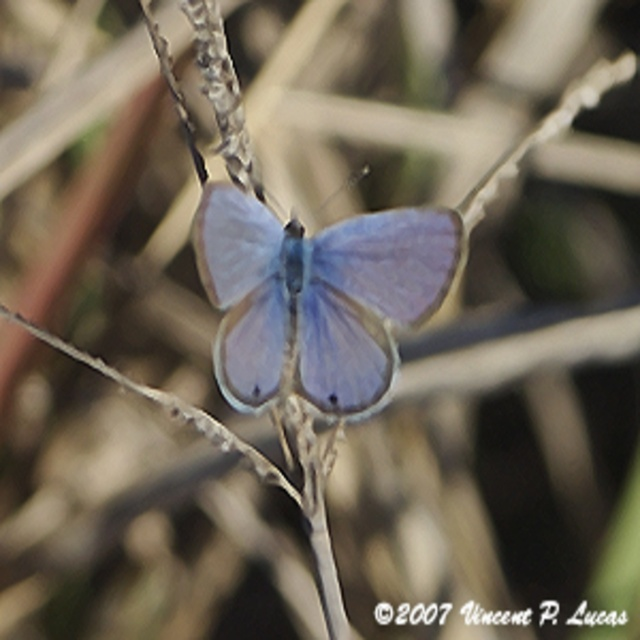Butterfly: (190, 167, 463, 439)
